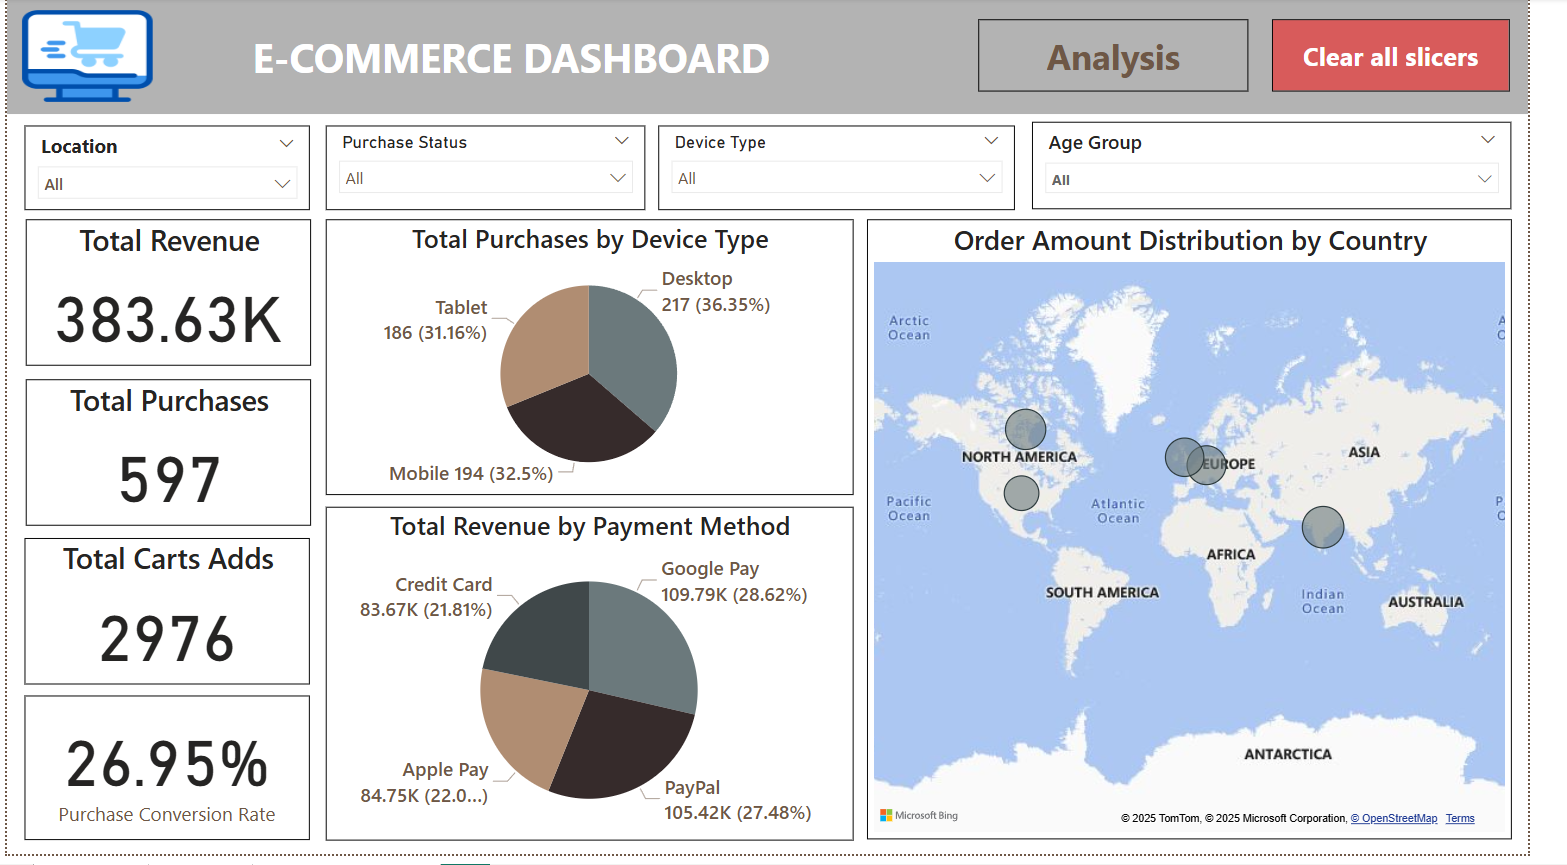

The dashboard page shown, as its layout file describes it:
{"tool":"powerbi","page":{"name":"Overveiw","canvas":[1280,720],"ordinal":0},"visuals":[{"type":"card","title":"Total Revenue","fields":{"Values":["Master Table.Total Revenue"]},"box":[16.1,186.2,240.2,123],"z":0},{"type":"card","title":"Total Purchases","fields":{"Values":["Master Table.Total Purchases"]},"box":[16.1,320.7,240.2,123],"z":1000},{"type":"card","title":"Total Carts Adds","fields":{"Values":["Sum(Master Table.Added to Cart)"]},"box":[14.9,454,240.2,123],"z":2000},{"type":"map","title":"Order Amount Distribution by Country","fields":{"Size":["Sum(Master Table.Order Amount)"],"Category":["Master Table.Location"]},"box":[723,186.2,542.5,521.8],"z":3000},{"type":"card","fields":{"Values":["Master Table.Purchase Conversion Rate"]},"box":[14.9,586.2,240.2,121.8],"z":4000},{"type":"pieChart","title":"Total Revenue by Payment Method","fields":{"Category":["Master Table.Payment Method"],"Y":["Sum(Master Table.Order Amount)"]},"box":[267.8,427.6,443.7,280.5],"z":5000},{"type":"pieChart","fields":{"Category":["Master Table.Device Type"],"Y":["Master Table.Total Purchases"]},"box":[267.8,186.2,443.7,232.2],"z":6000},{"type":"shape","box":[0,0,1280.5,97.7],"z":7000},{"type":"shape","box":[136.8,0,574.7,97.7],"z":8000},{"type":"slicer","fields":{"Values":["Master Table.Location"]},"box":[14.9,106.9,240.2,71.3],"z":9000},{"type":"slicer","fields":{"Values":["Master Table.Purchase Status"]},"box":[267.8,106.9,269,71.3],"z":10000},{"type":"slicer","fields":{"Values":["Master Table.Device Type"]},"box":[548.3,106.9,300,71.3],"z":11000},{"type":"slicer","fields":{"Values":["Master Table.Age Group"]},"box":[862.1,104.6,403.4,73.6],"z":12000},{"type":"image","box":[0,0,135.6,97.7],"z":13000},{"type":"actionButton","box":[817.2,18.4,227.6,60.9],"z":14000},{"type":"actionButton","box":[1064.4,18.4,200,60.9],"z":15000}]}

Visuals, with their boxes in screenshot pixels (x1, y1, x2, y2), scaled from the page's 1280x720 canvas onto the 1567x865 screenshot:
"Total Revenue" card: <bbox>20, 224, 314, 371</bbox>
"Total Purchases" card: <bbox>20, 385, 314, 533</bbox>
"Total Carts Adds" card: <bbox>18, 545, 312, 693</bbox>
"Order Amount Distribution by Country" map: <bbox>885, 224, 1549, 851</bbox>
card - Master Table.Purchase Conversion Rate: <bbox>18, 704, 312, 851</bbox>
"Total Revenue by Payment Method" pieChart: <bbox>328, 514, 871, 851</bbox>
pieChart - Master Table.Device Type x Master Table.Total Purchases: <bbox>328, 224, 871, 503</bbox>
shape: <bbox>0, 0, 1566, 117</bbox>
shape: <bbox>167, 0, 871, 117</bbox>
slicer - Master Table.Location: <bbox>18, 128, 312, 214</bbox>
slicer - Master Table.Purchase Status: <bbox>328, 128, 657, 214</bbox>
slicer - Master Table.Device Type: <bbox>671, 128, 1039, 214</bbox>
slicer - Master Table.Age Group: <bbox>1055, 126, 1549, 214</bbox>
image: <bbox>0, 0, 166, 117</bbox>
actionButton: <bbox>1000, 22, 1279, 95</bbox>
actionButton: <bbox>1303, 22, 1548, 95</bbox>
